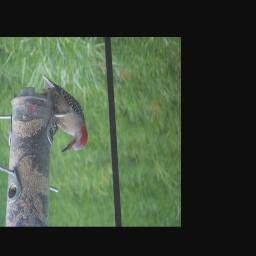Woodpecker: (41, 74, 87, 153)
